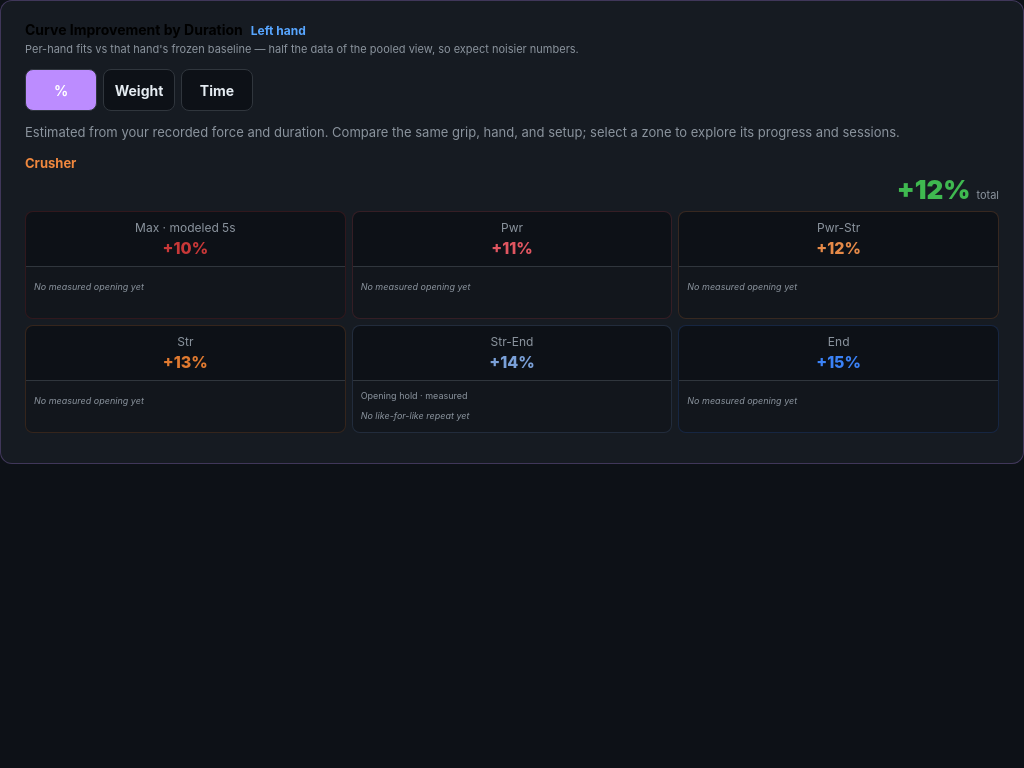
Test case: uses the active hand when opening a per-hand tile
What coordinates should you click on to do the following:
click the button with aria-label "Strength-Endurance session history"
I would click on:
 (512, 353)
Its box is [353,326,671,380].
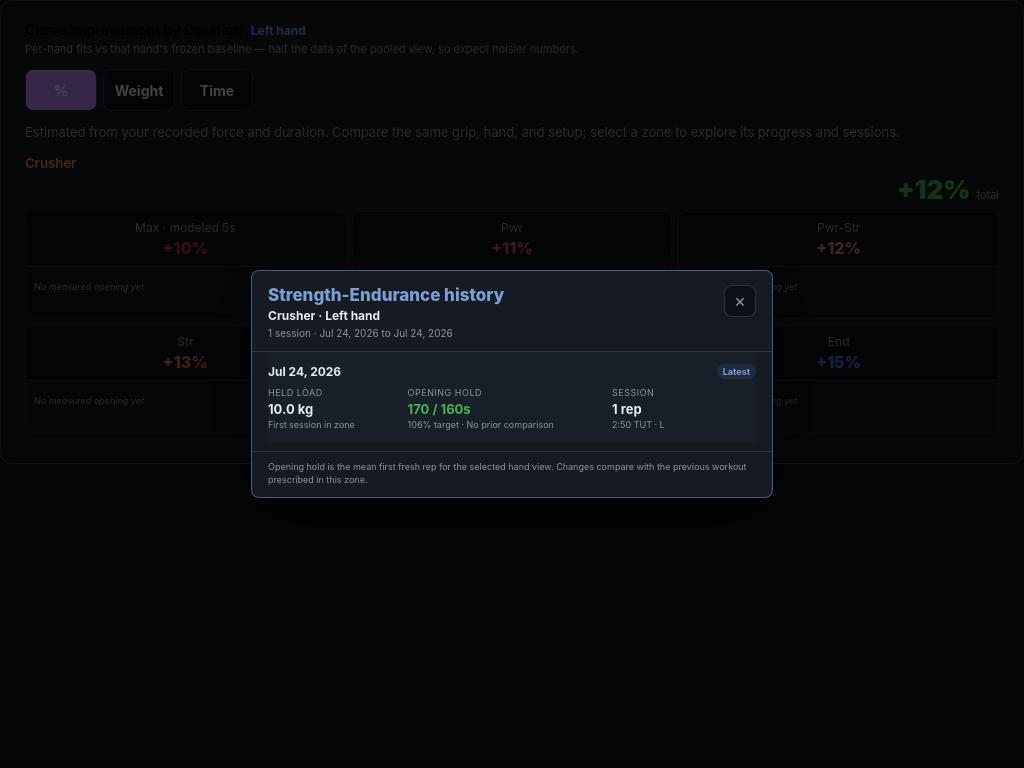
Now the text "Crusher · Left hand" is shown, box [268,308,380,323]
Now the text "10.0 kg" is shown, box [268,401,313,417]
